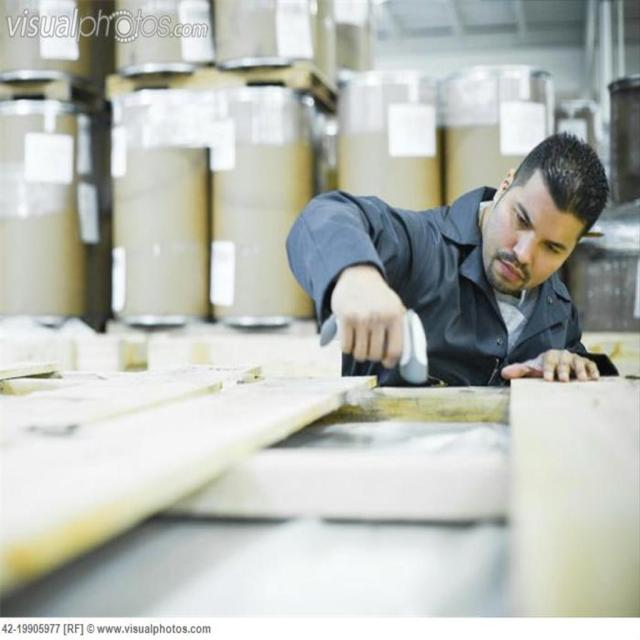Face: (476, 177, 586, 283)
